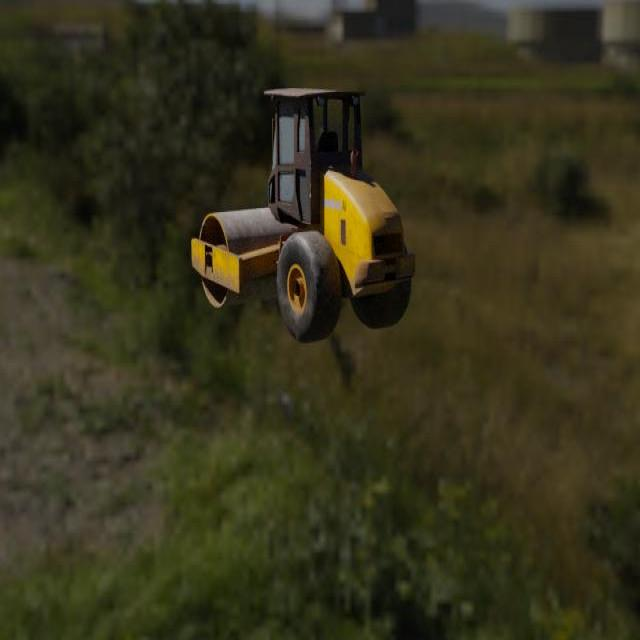Roller: (190, 87, 415, 344)
